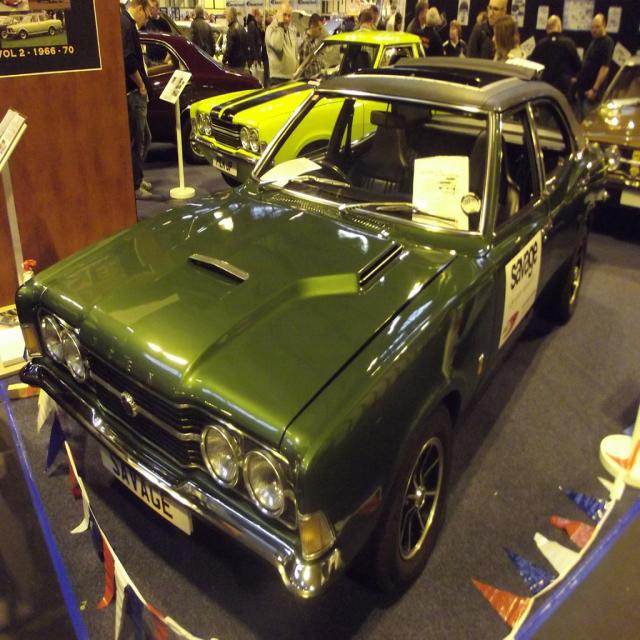other: (12, 7, 639, 604)
